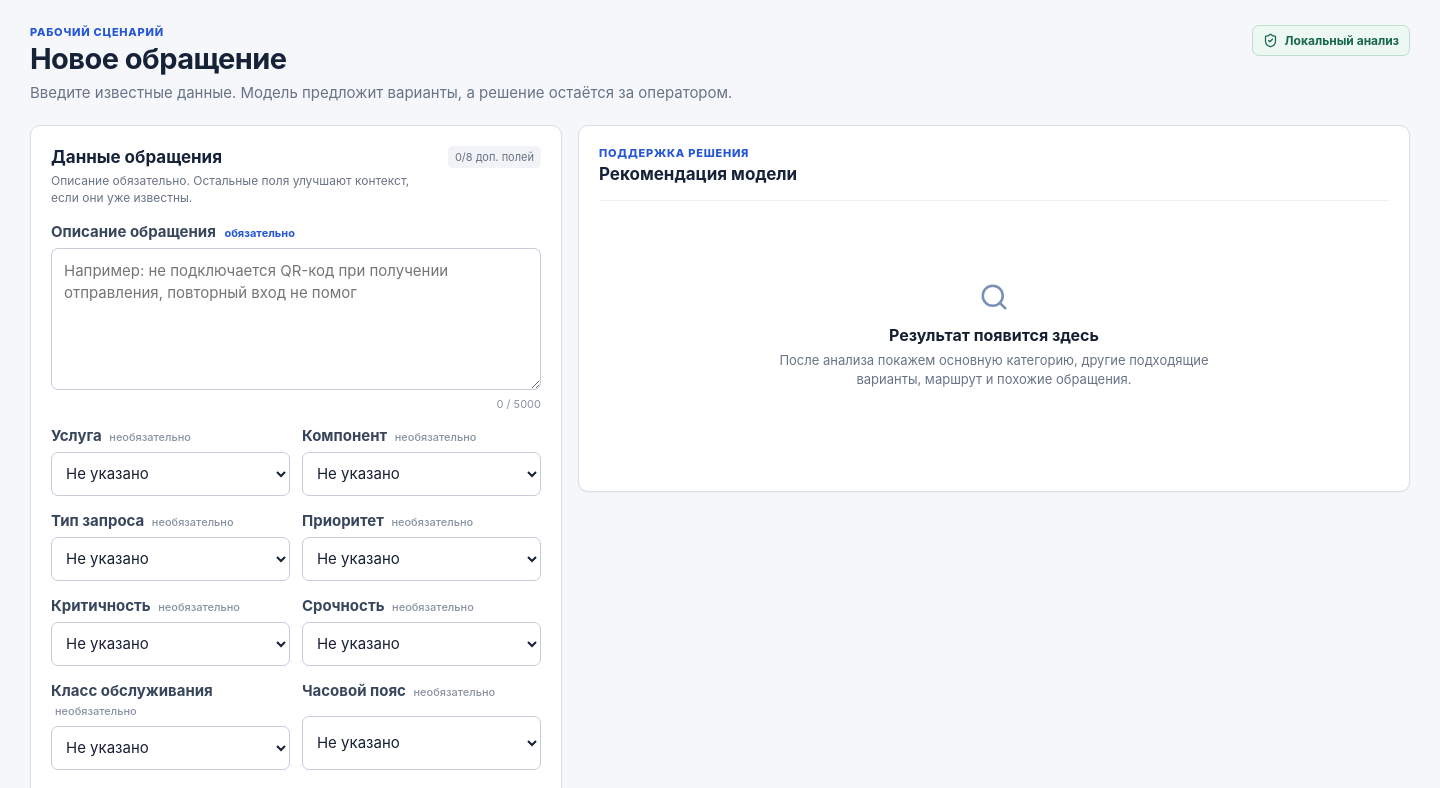
it: shows an honest empty state when retrieval rejects weak matches
Replace the text in the text box labelled "Описание обращения" with "Квантовый телепорт сломал океан" at (296, 319), box [51,248,541,390]
(page scrolled)
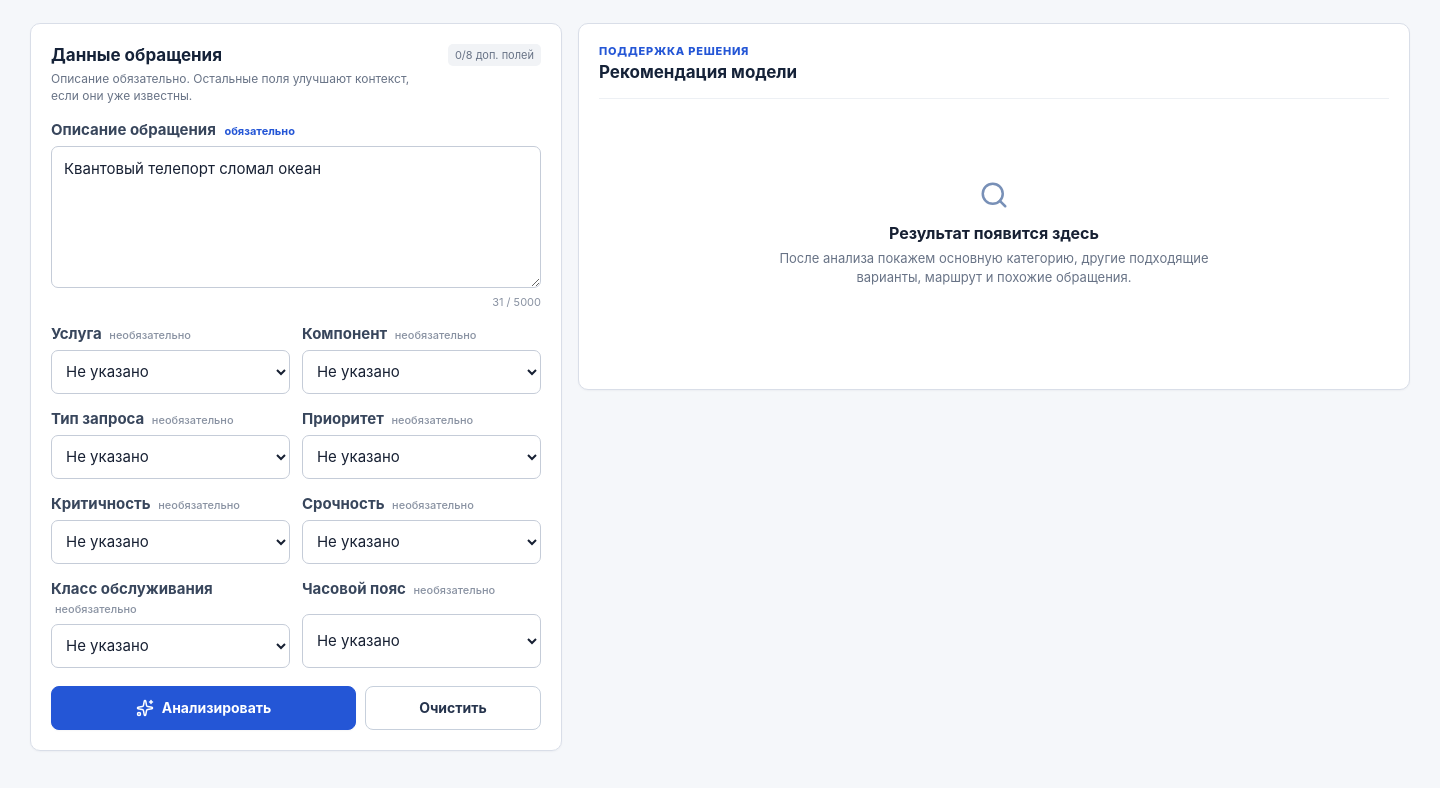
Click the button "Анализировать" at (204, 708), box [51,686,356,730]
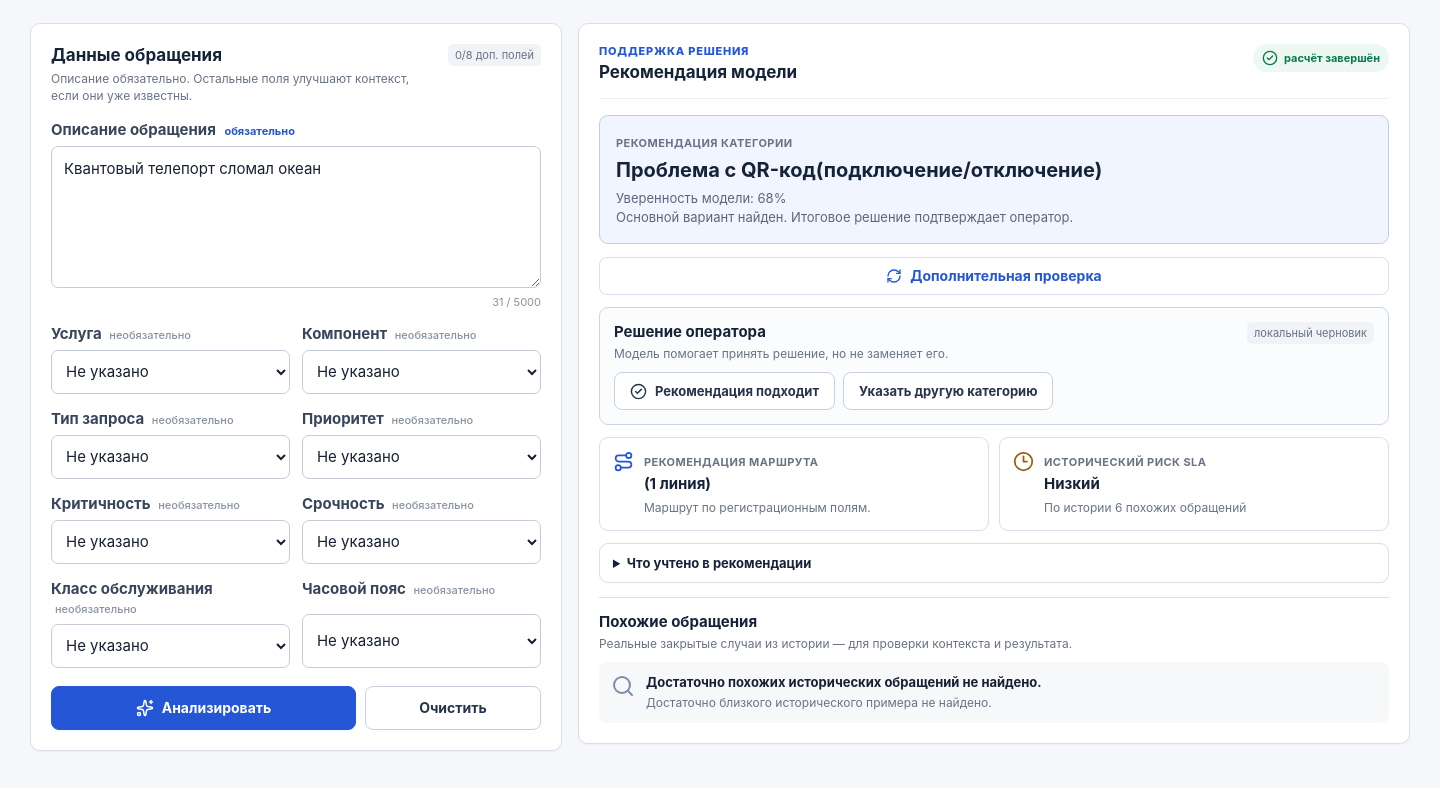
Expected: the heading "Достаточно похожих исторических обращений не найдено." is shown, [646,674,1042,690]
